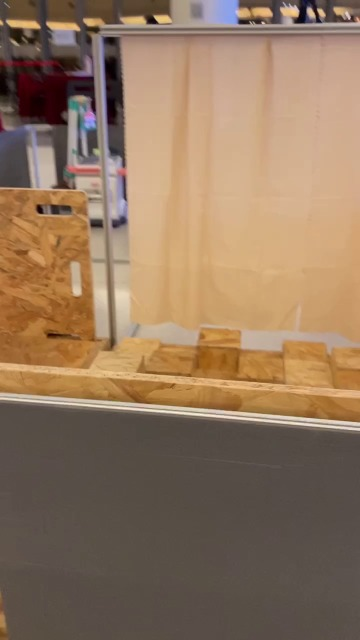curtain: (115, 26, 360, 326)
